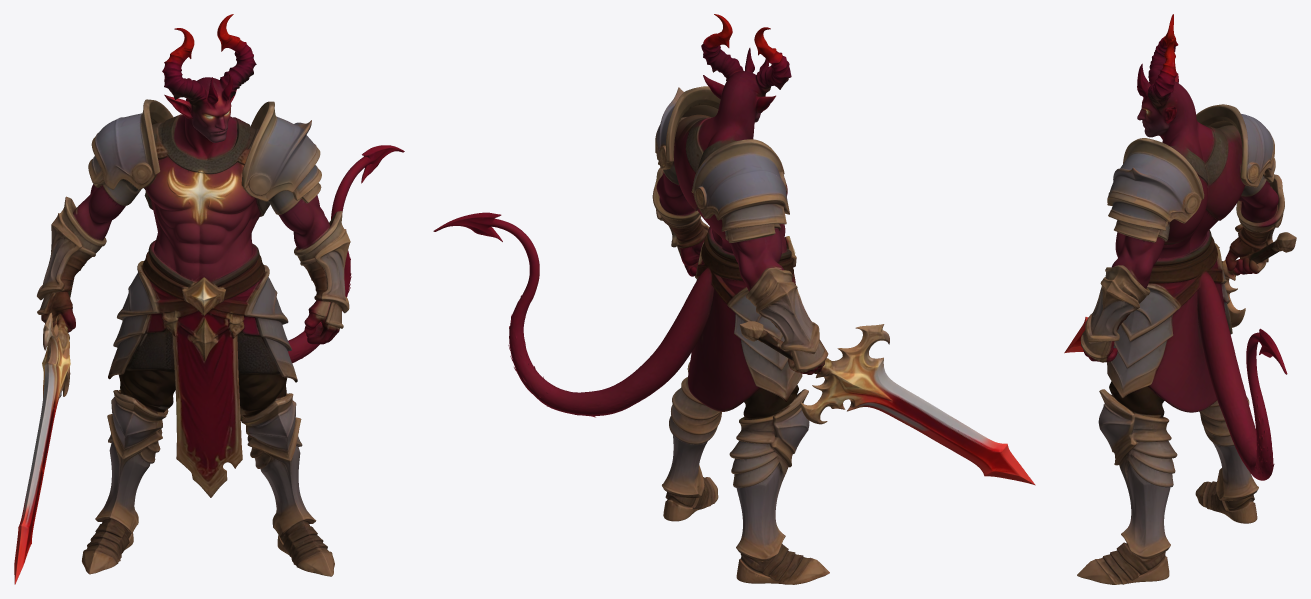
File: tiefling_paladin_full_male_01.glb
3 renders of one model, left to right at view 1: azimuth 30°, elevation 25°; view 2: azimuth 150°, elevation 25°; view 3: azimuth 270°, elevation 25°, orthographic. The views are drawn at different scales.
Parts seen in each view (by area): view 1: material; view 2: material; view 3: material.
Part boxes in pixels (x1,y1,x2,y2): material: (14,14,404,584); material: (433,14,1035,584); material: (1064,14,1296,584).
Bounding box in the file's own units: 0.9182 × 0.9321 × 0.3832.
1 material, 1 textured.
